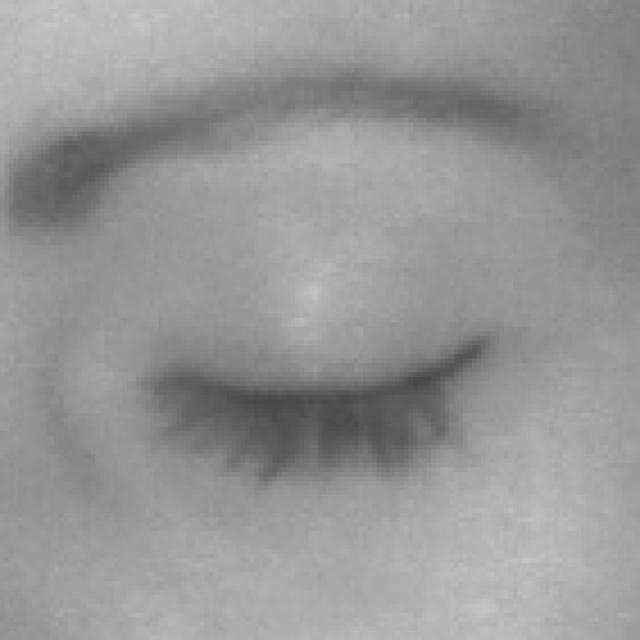close: (0, 51, 640, 598)
